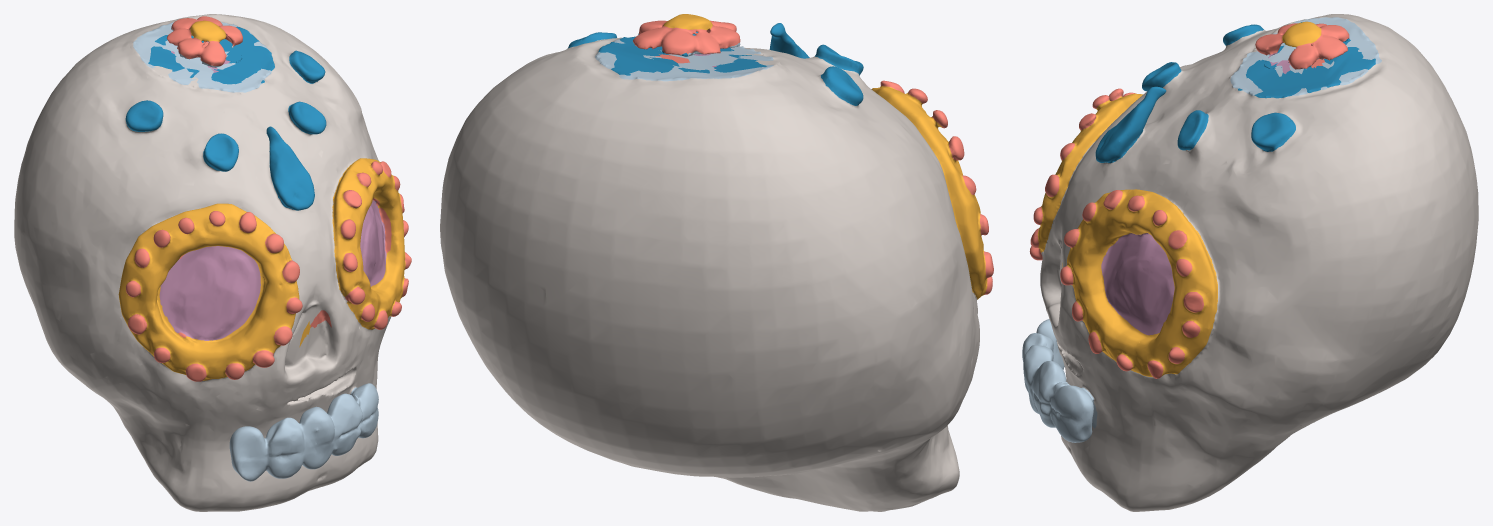
Rendered from Stack 5B - Candy Skul.glb.
3 views of the same model, side by side, from view 1: azimuth 30°, elevation 25°; view 2: azimuth 150°, elevation 25°; view 3: azimuth 270°, elevation 25° (orthographic). The views are drawn at different scales.
Parts seen in each view (by area): view 1: Stack 5B - Candy Skul · mesh; view 2: Stack 5B - Candy Skul · mesh; view 3: Stack 5B - Candy Skul · mesh.
Boxes of the visible parts, x1,y1,x2,y2 form: Stack 5B - Candy Skul · mesh: (14, 14, 411, 511); Stack 5B - Candy Skul · mesh: (440, 14, 993, 511); Stack 5B - Candy Skul · mesh: (1022, 14, 1478, 511).
Bounding box in the file's own units: 0.8853 × 1 × 0.9229.
